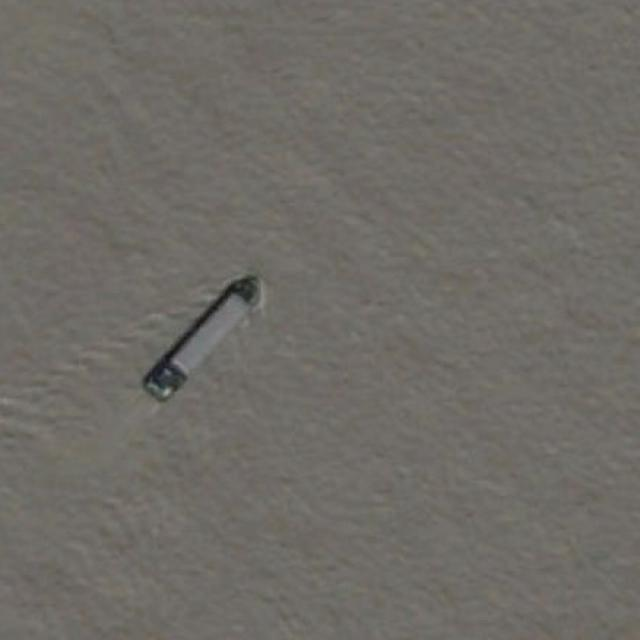ship: (145, 266, 269, 402)
